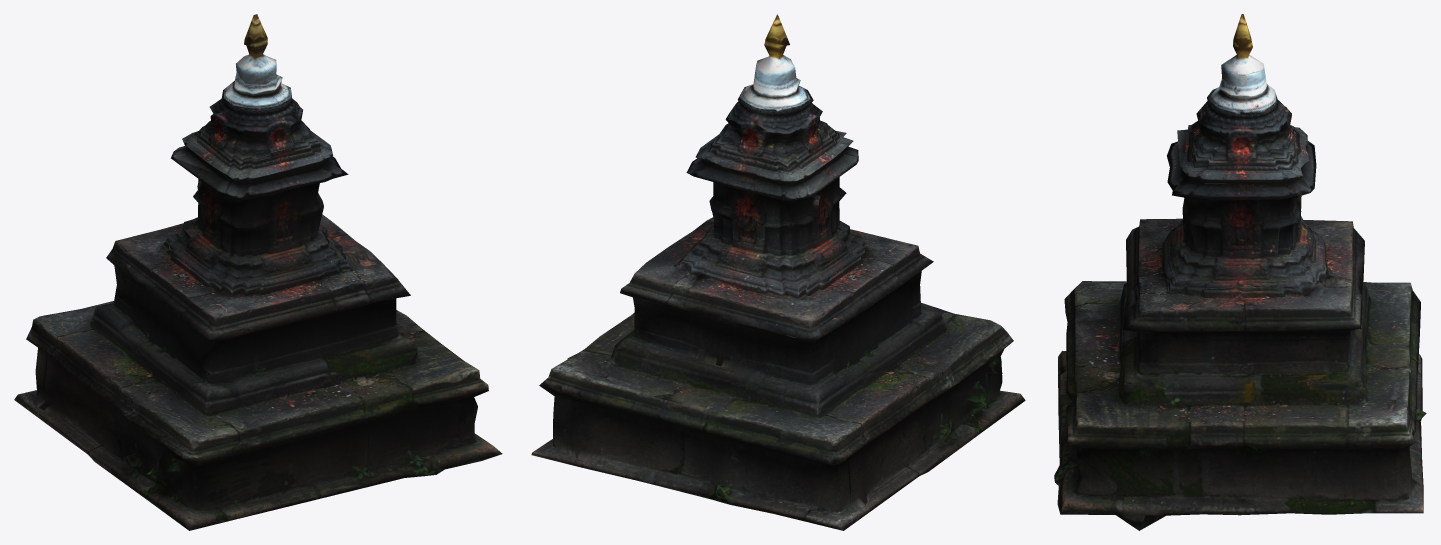
The model's file is temple.glb.
The picture shows the model from 3 angles, left to right: view 1: azimuth 30°, elevation 25°; view 2: azimuth 150°, elevation 25°; view 3: azimuth 270°, elevation 25°; orthographic projection. The views are drawn at different scales.
Visible parts, largest first — view 1: Baked Model; view 2: Baked Model; view 3: Baked Model.
Boxes of the visible parts, bbox=[...] form: Baked Model: bbox=[14, 14, 502, 530]; Baked Model: bbox=[531, 14, 1025, 530]; Baked Model: bbox=[1054, 14, 1426, 530].
Bounding box in the file's own units: 102 × 132 × 102.
Materials: 1 (1 with a texture image).
